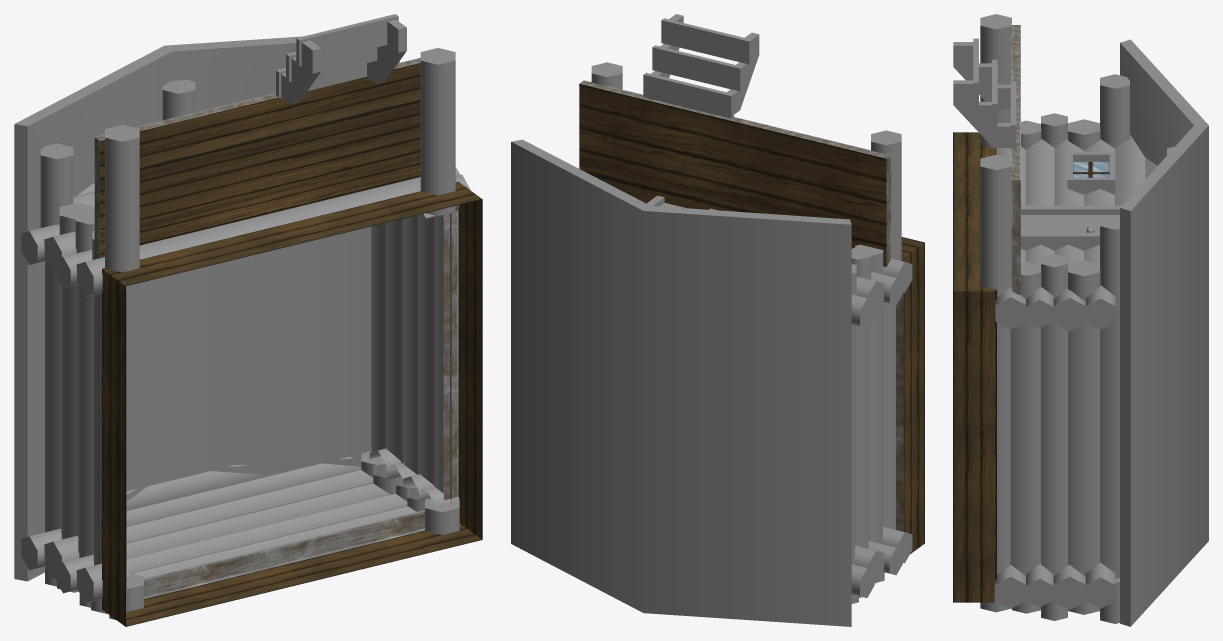
File: Log_House_C.fbx
3 renders of one model, left to right at view 1: azimuth 30°, elevation 25°; view 2: azimuth 150°, elevation 25°; view 3: azimuth 270°, elevation 25°, orthographic. The views are drawn at different scales.
Visible parts, largest first — view 1: Log_House_C; view 2: Log_House_C; view 3: Log_House_C.
Boxes of the visible parts, <box> form: Log_House_C: <box>14,14,482,626</box>; Log_House_C: <box>511,14,924,626</box>; Log_House_C: <box>953,14,1208,626</box>.
Size of the model in its own units: 0.7779 by 1.06 by 0.4834.
